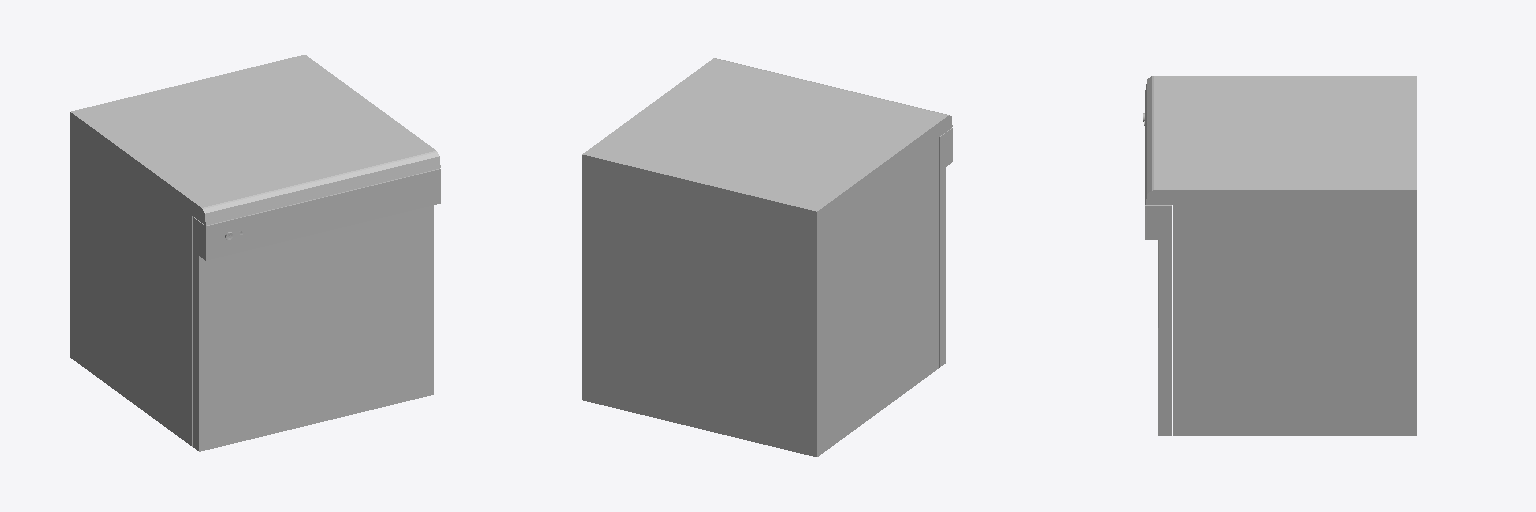
The model's file is dishwasher.obj.
The picture shows the model from 3 angles: view 1: azimuth 30°, elevation 25°; view 2: azimuth 150°, elevation 25°; view 3: azimuth 270°, elevation 25°; orthographic projection.
Bounding box in the file's own units: 1 × 1 × 1.01.